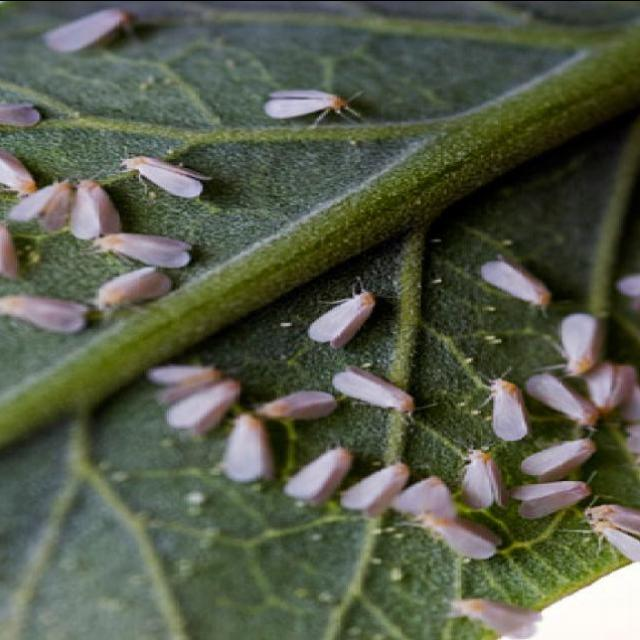Whitefly: (141, 250, 639, 563), (66, 143, 210, 334), (255, 75, 369, 124)
